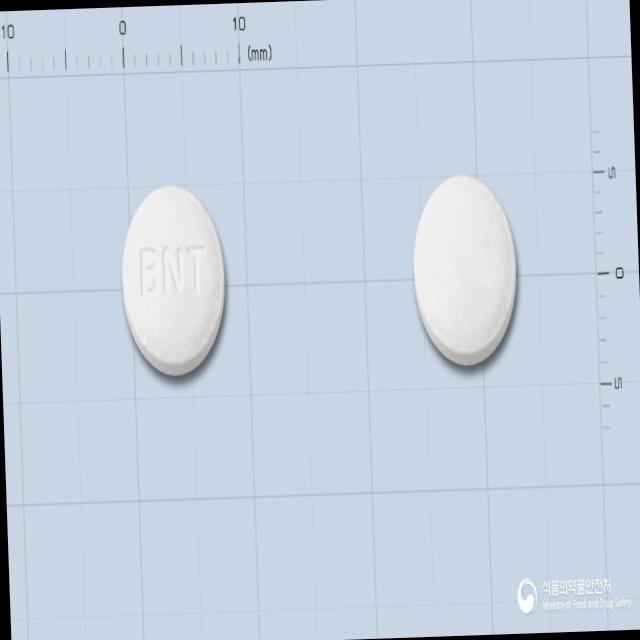Banan: (115, 178, 232, 384)
